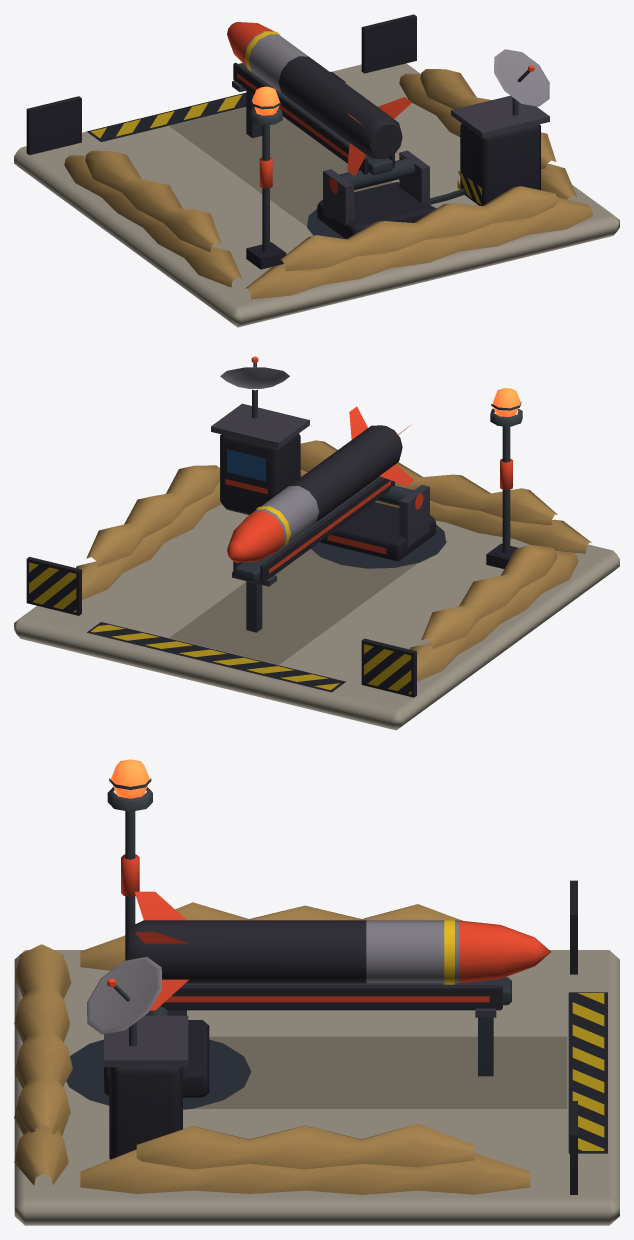
File: missile-site.glb
3 views of the same model, one above another, from view 1: azimuth 30°, elevation 25°; view 2: azimuth 150°, elevation 25°; view 3: azimuth 270°, elevation 25° (orthographic). The views are drawn at different scales.
Parts seen in each view (by area): view 1: missile-site Warm concrete, missile-site Sand webbing, missile-site Ashen charcoal, missile-site Concrete shade, missile-site Rack Ashen charcoal, missile-site Ashen slate, missile-site Gunmetal, missile-site Ash grey, missile-site Rack Ember paint, missile-site Rack Ash grey, missile-site Rack Gunmetal, missile-site Hazard yellow (+2 smaller); view 2: missile-site Warm concrete, missile-site Sand webbing, missile-site Ashen charcoal, missile-site Concrete shade, missile-site Rack Ashen charcoal, missile-site Gunmetal, missile-site Ashen slate, missile-site Rack Ember paint, missile-site Hazard yellow, missile-site Rack Ash grey, missile-site Rack Gunmetal, missile-site Ember paint (+3 smaller); view 3: missile-site Warm concrete, missile-site Sand webbing, missile-site Concrete shade, missile-site Rack Ashen charcoal, missile-site Ashen charcoal, missile-site Rack Ember paint, missile-site Gunmetal, missile-site Rack Ash grey, missile-site Ashen slate, missile-site Ash grey, missile-site Hazard yellow, missile-site Rack Gunmetal (+3 smaller).
Boxes of the visible parts, box(x1,y1,x2,y2) form: missile-site Warm concrete: box(14, 63, 619, 327); missile-site Sand webbing: box(64, 69, 592, 299); missile-site Ashen charcoal: box(26, 14, 540, 269); missile-site Concrete shade: box(169, 107, 392, 226); missile-site Rack Ashen charcoal: box(233, 56, 402, 174); missile-site Ashen slate: box(232, 80, 549, 226); missile-site Gunmetal: box(246, 70, 529, 252); missile-site Ash grey: box(494, 49, 549, 106); missile-site Rack Ember paint: box(227, 22, 412, 176); missile-site Rack Ash grey: box(244, 31, 308, 96); missile-site Rack Gunmetal: box(238, 63, 415, 190); missile-site Hazard yellow: box(90, 94, 481, 205); missile-site Warm concrete: box(14, 504, 619, 730); missile-site Sand webbing: box(76, 440, 591, 681); missile-site Ashen charcoal: box(26, 433, 518, 697); missile-site Concrete shade: box(170, 540, 447, 664); missile-site Rack Ashen charcoal: box(233, 425, 402, 583); missile-site Gunmetal: box(246, 362, 522, 632); missile-site Ashen slate: box(211, 403, 429, 586); missile-site Rack Ember paint: box(227, 406, 414, 573); missile-site Hazard yellow: box(29, 562, 411, 694); missile-site Rack Ash grey: box(255, 486, 318, 550); missile-site Rack Gunmetal: box(235, 476, 413, 582); missile-site Ember paint: box(225, 356, 512, 554); missile-site Warm concrete: box(14, 950, 619, 1225); missile-site Sand webbing: box(14, 902, 530, 1194); missile-site Concrete shade: box(193, 1036, 567, 1108); missile-site Rack Ashen charcoal: box(130, 920, 502, 1010); missile-site Ashen charcoal: box(104, 880, 607, 1194); missile-site Rack Ember paint: box(134, 891, 550, 1010); missile-site Gunmetal: box(66, 778, 493, 1109); missile-site Rack Ash grey: box(366, 920, 458, 983); missile-site Ashen slate: box(104, 1008, 496, 1085); missile-site Ash grey: box(87, 957, 162, 1034); missile-site Hazard yellow: box(572, 993, 604, 1150); missile-site Rack Gunmetal: box(145, 977, 511, 1015).
Size of the model in its own units: 4.6 by 2.21 by 4.6.
11 materials, 9 textured.
